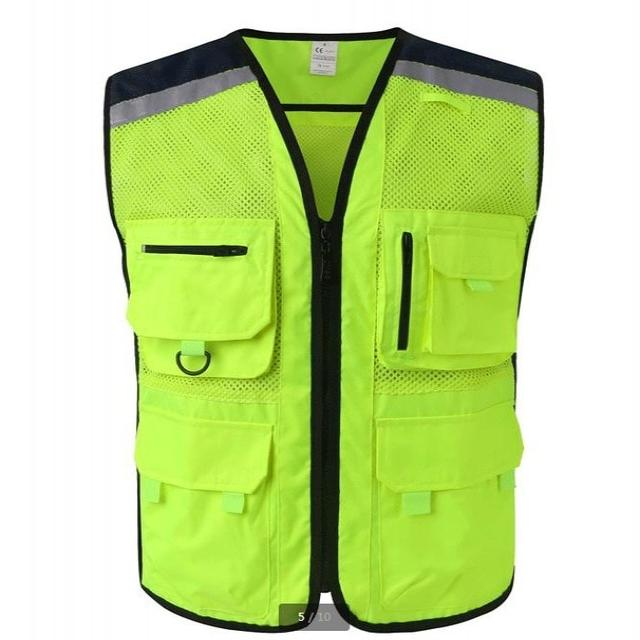Reflective-Jacket: (67, 3, 586, 640)
